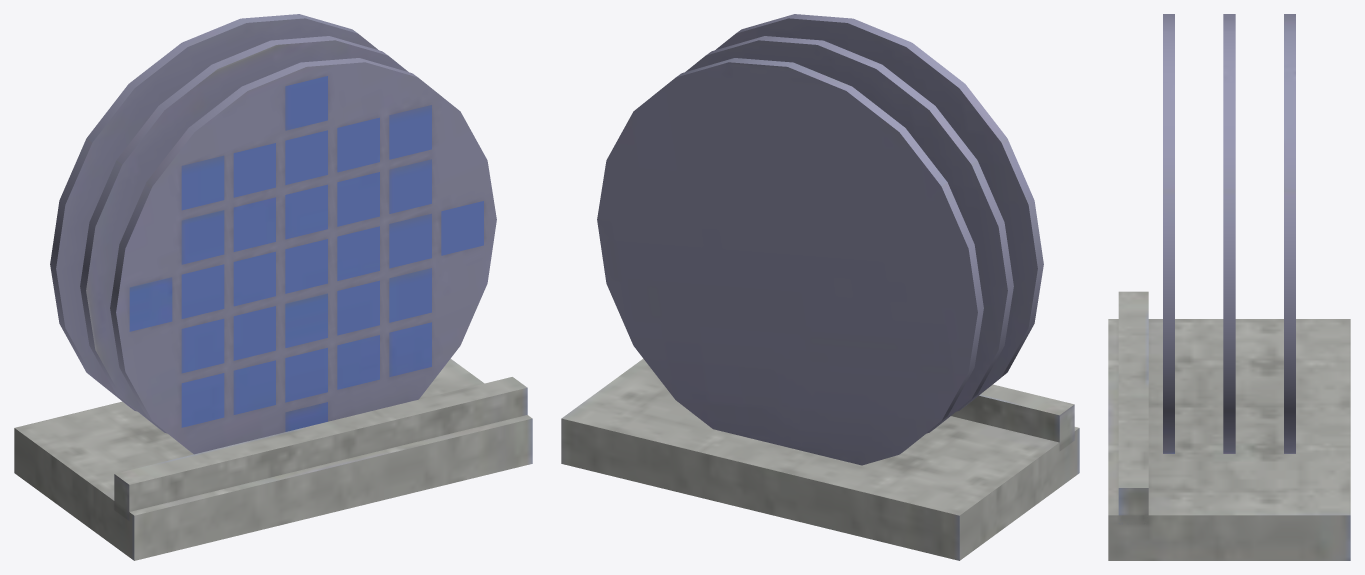
Rendered from silicon_wafer.glb.
The picture shows the model from 3 angles, left to right: view 1: azimuth 30°, elevation 25°; view 2: azimuth 150°, elevation 25°; view 3: azimuth 270°, elevation 25°; orthographic projection.
Visible parts, largest first — view 1: te_res_silicon_wafer; view 2: te_res_silicon_wafer; view 3: te_res_silicon_wafer.
Part boxes in pixels (<box>): te_res_silicon_wafer: <box>14,14,532,560</box>; te_res_silicon_wafer: <box>561,14,1079,560</box>; te_res_silicon_wafer: <box>1108,14,1350,560</box>.
Size of the model in its own units: 0.46 by 0.47 by 0.24.
Materials: 1 (1 with a texture image).
